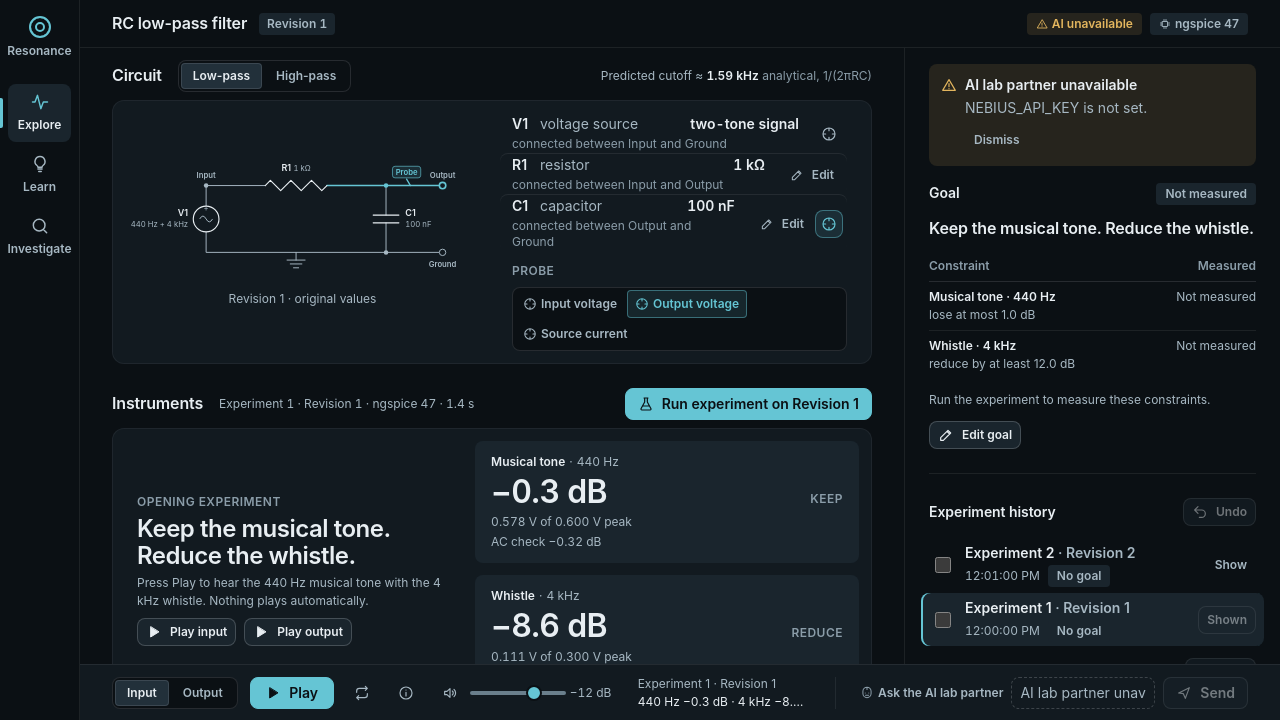
Test: Learn mode › asks for every tone's prediction, then shows each prediction beside the measured change
This screenshot has width=1280, height=720.
Expected: the list named "Measured tone levels" is shown, [475,441,859,664]
Click the button "Learn": (40, 175) [8,146,71,204]
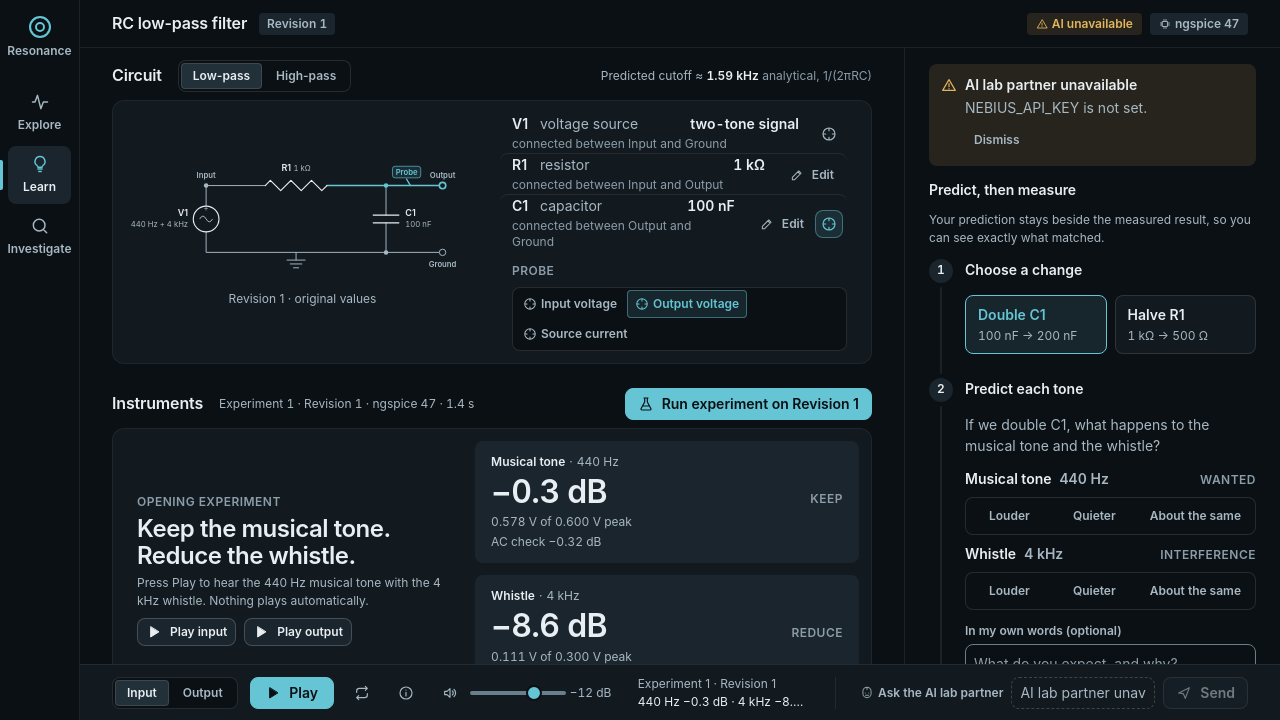
Result: the radio button labelled "Double C1 100 nF → 200 nF" is checked at [965,295,1106,354]
// One prediction is missing: nothing is sent and focus lands on the unanswered tone.
Click the radio button labelled "About the same" below "wanted": (1195, 515) [1150,508,1241,523]
(page scrolled)
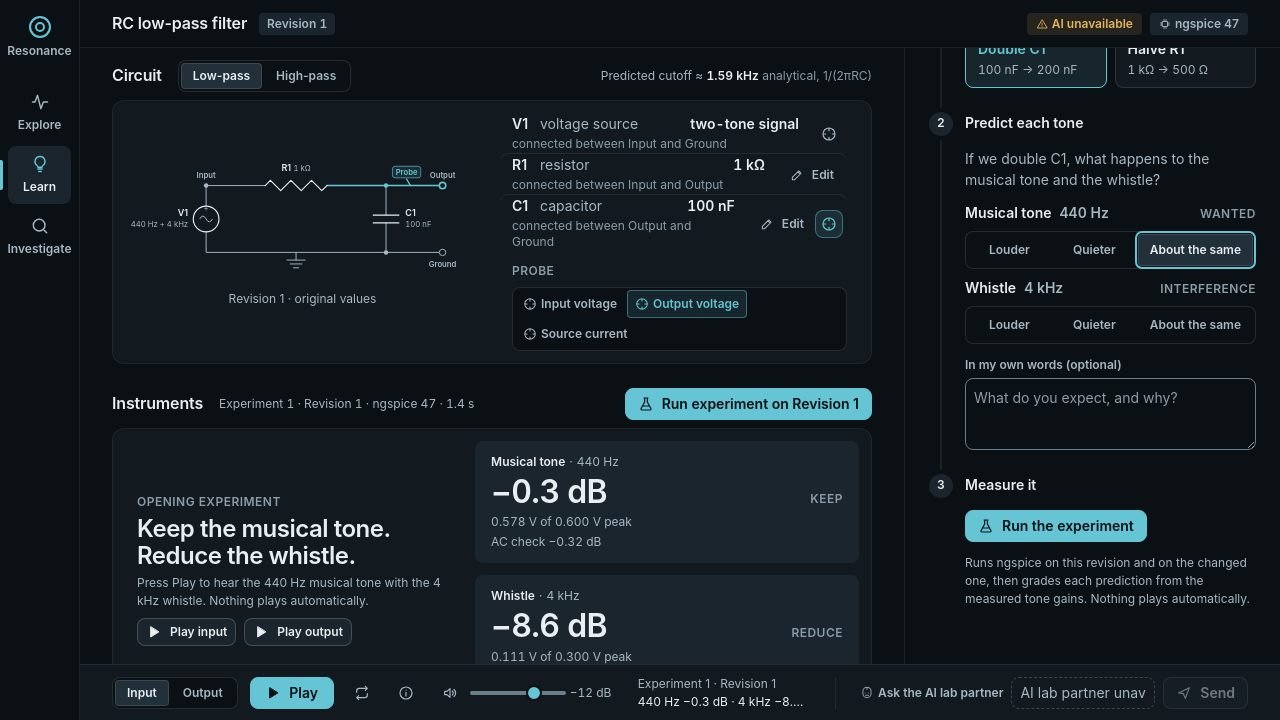
Click the button "Run the experiment": (1056, 526) [965,510,1147,542]
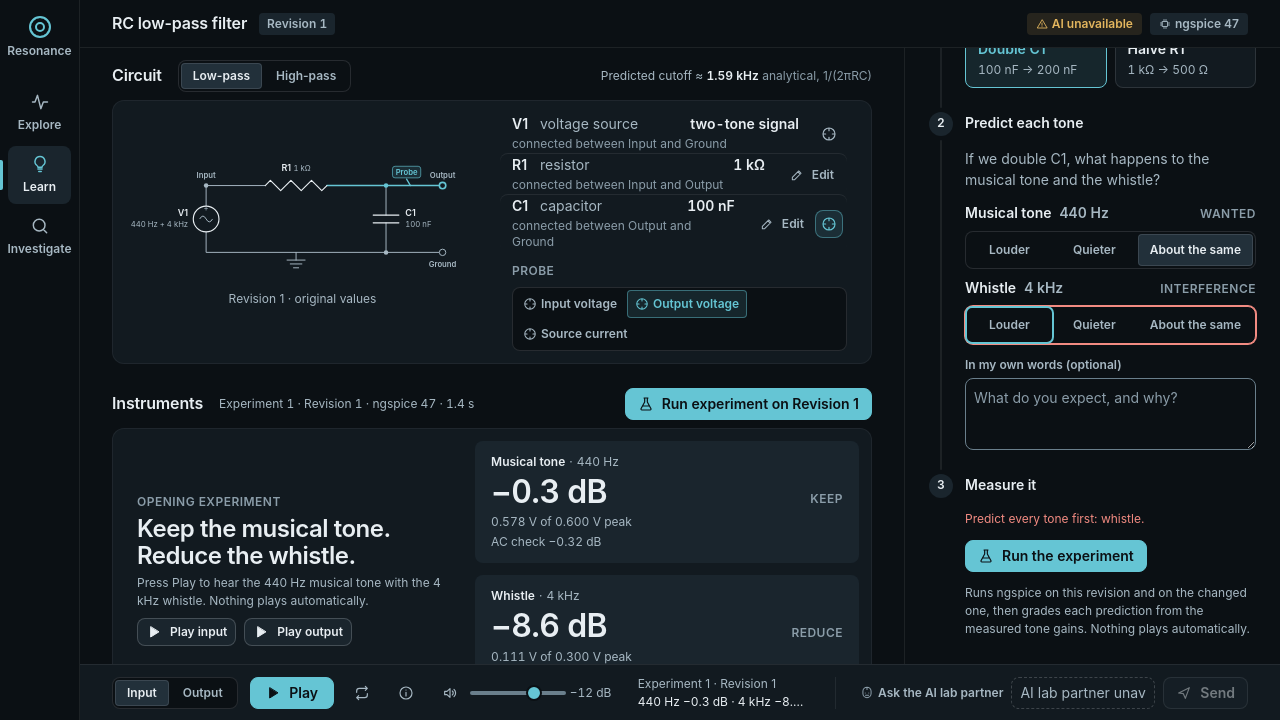
Result: the message reads "Predict every tone first: whistle." at [965,511,1144,526]
Click the radio button labelled "Louder" below "interference": (1009, 324) [989,317,1030,332]
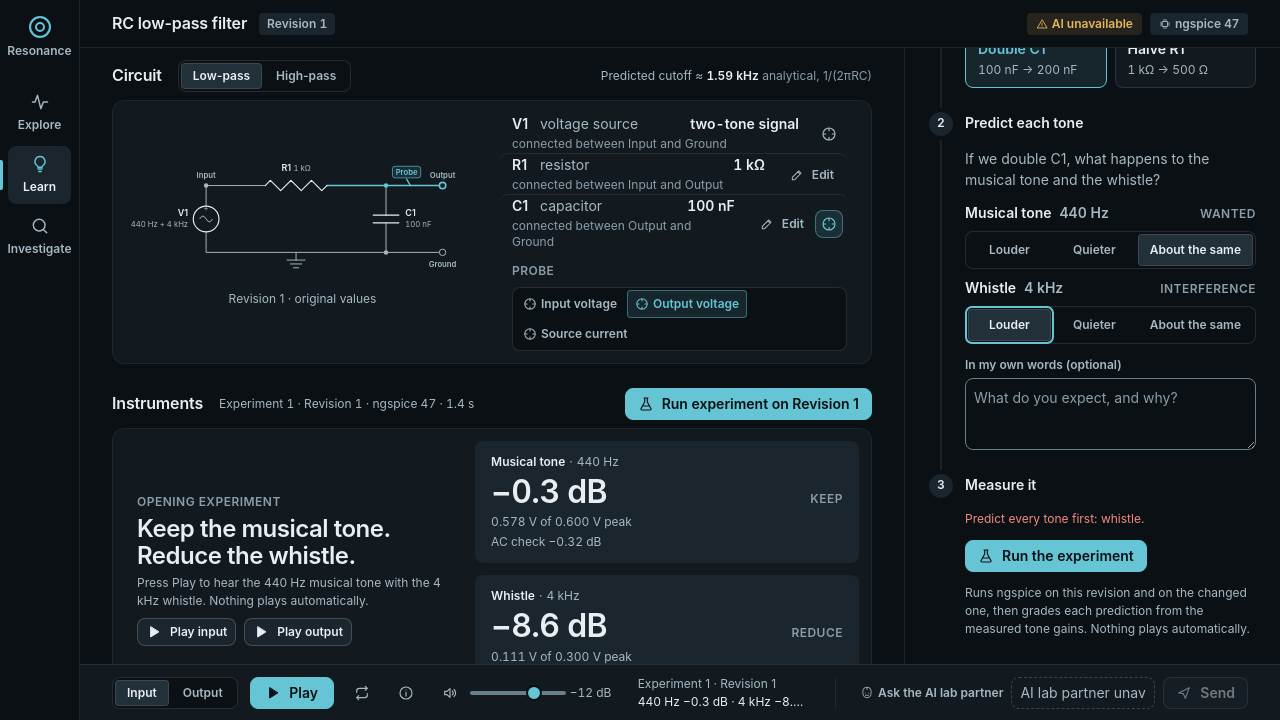
In the text box labelled "In my own words (optional)": (1110, 414) [965,378,1256,450], type "More capacitance shorts more of the high tone."
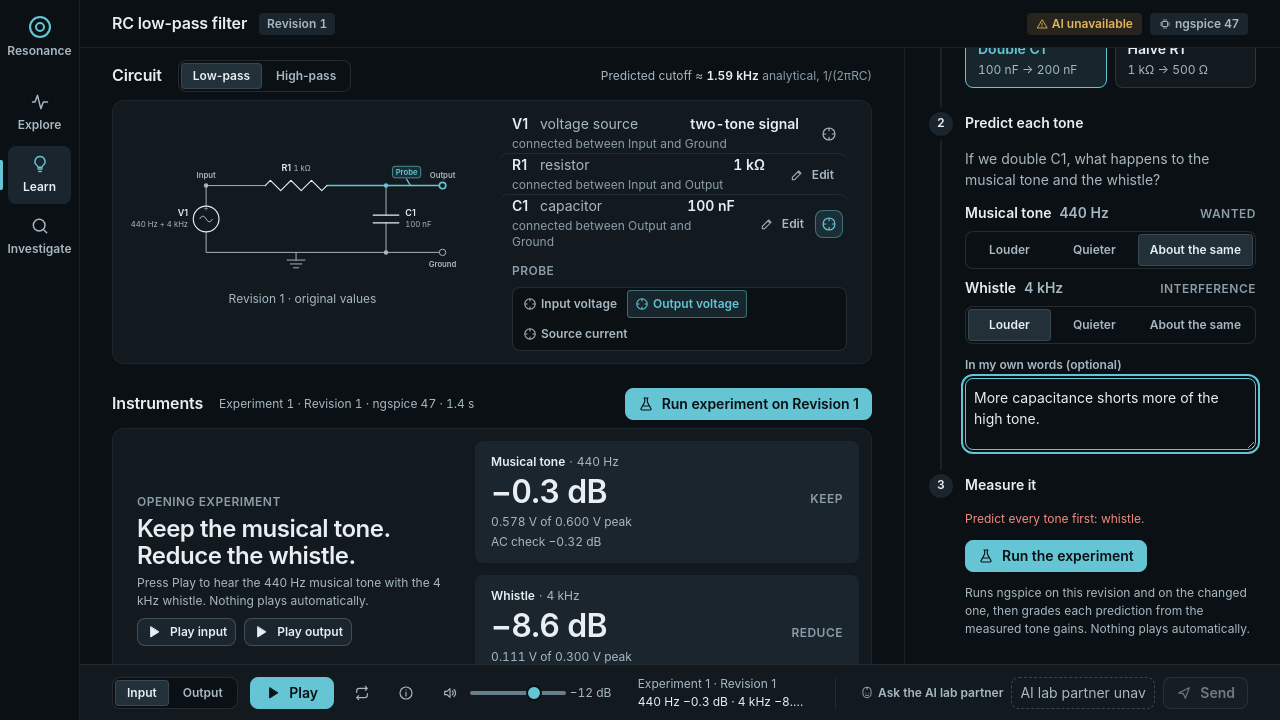
Click the button "Run the experiment": (1056, 556) [965,540,1147,572]
(page scrolled)
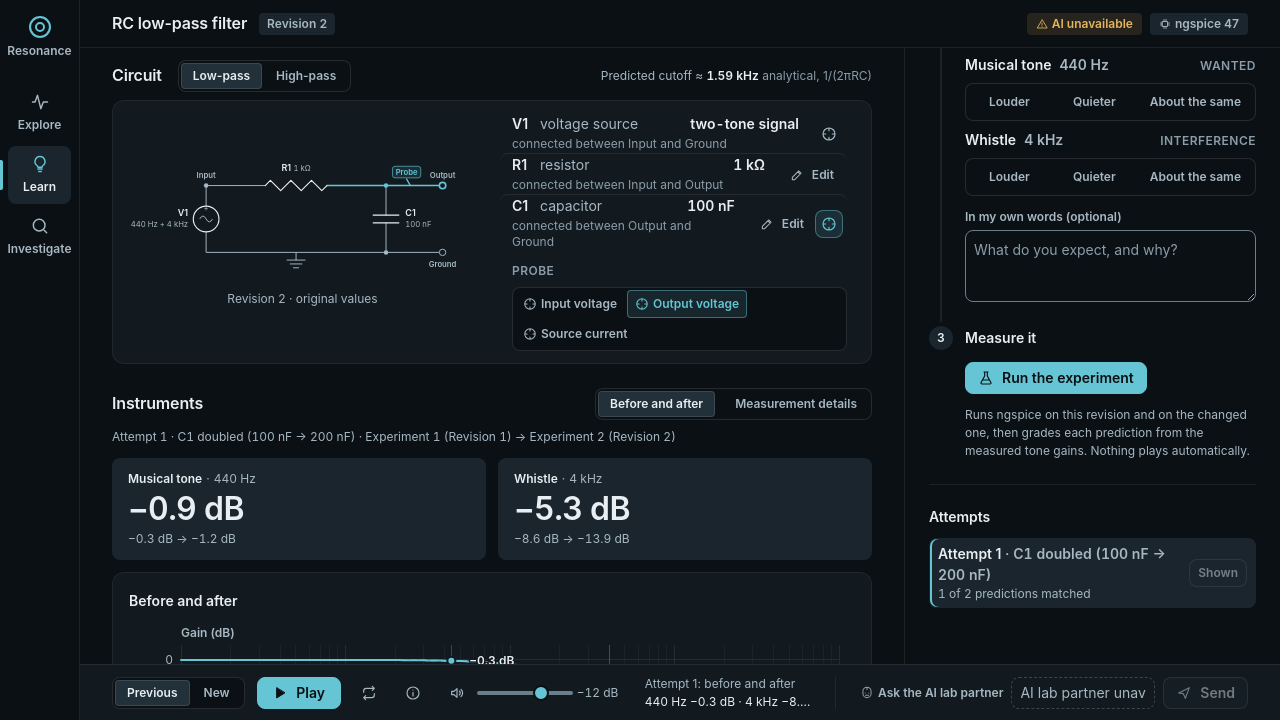
Result: the list named "Measured tone changes" shows "−5.3 dB" at [514,489,630,528]
Result: the element "Attempts" shows "C1 doubled (100 nF → 200 nF)" at [938,545,1166,583]
